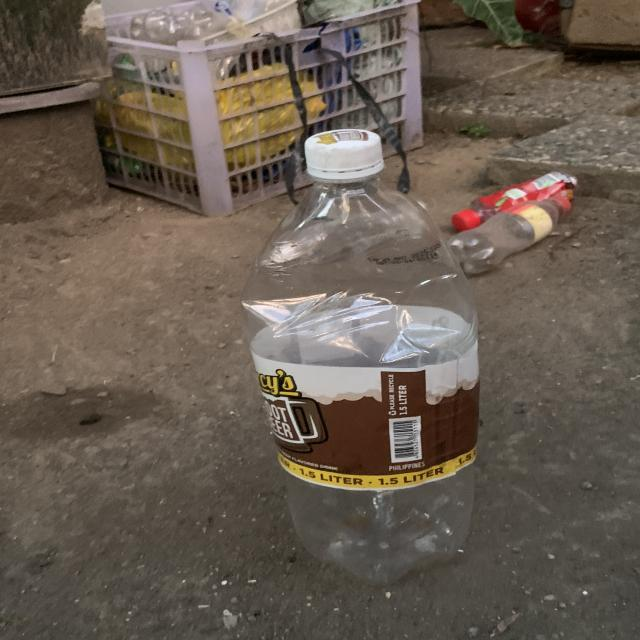Bottle: (242, 130, 479, 581)
